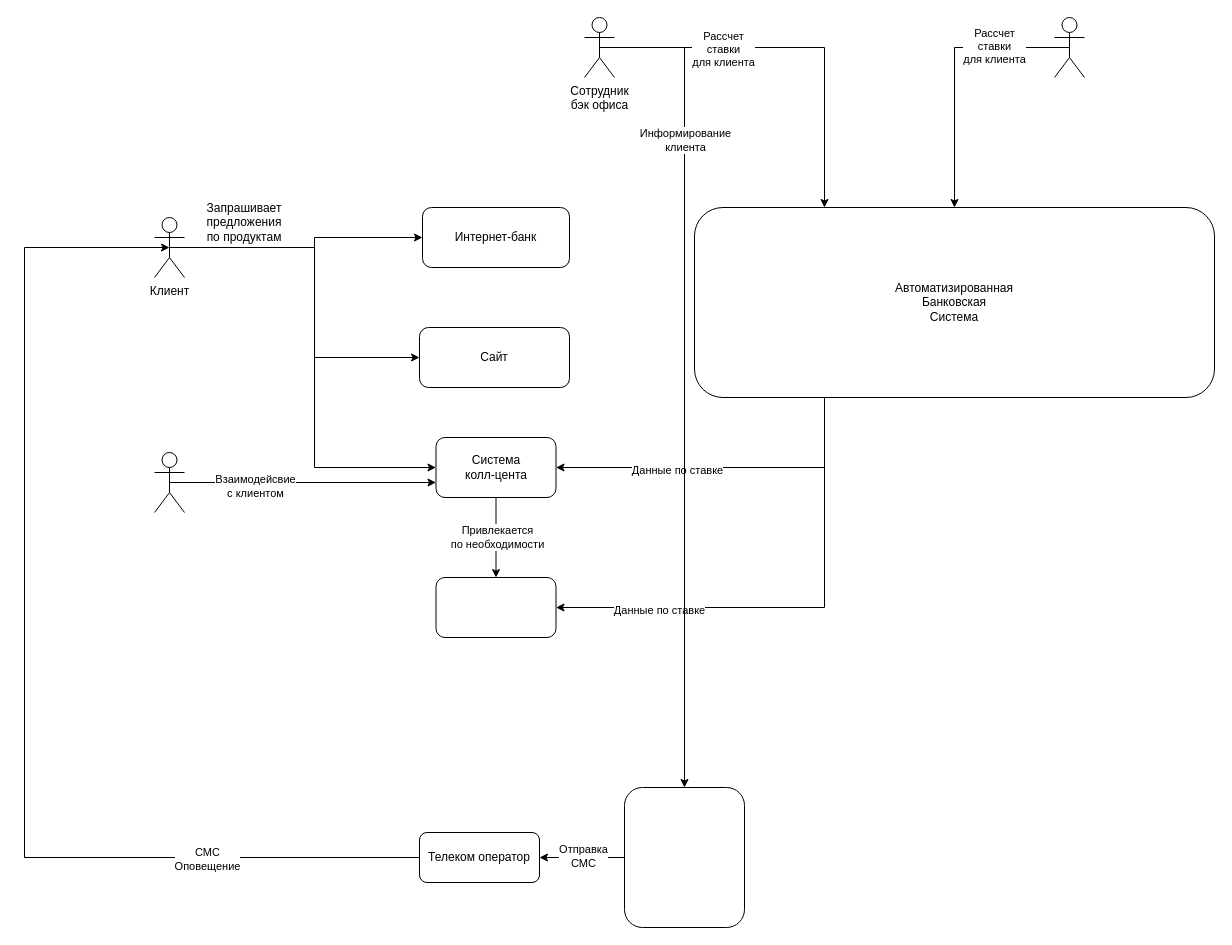
This 1232x945 diagram has some shape labels left out. Each missing label, with the box of its shape:
CMS шлюз: (624, 786, 744, 928)
Оператор колл центра: (154, 452, 184, 512)
Система партнерского колл-центра: (435, 576, 556, 638)
Сотрудник отдела кредитования: (1054, 16, 1084, 78)
